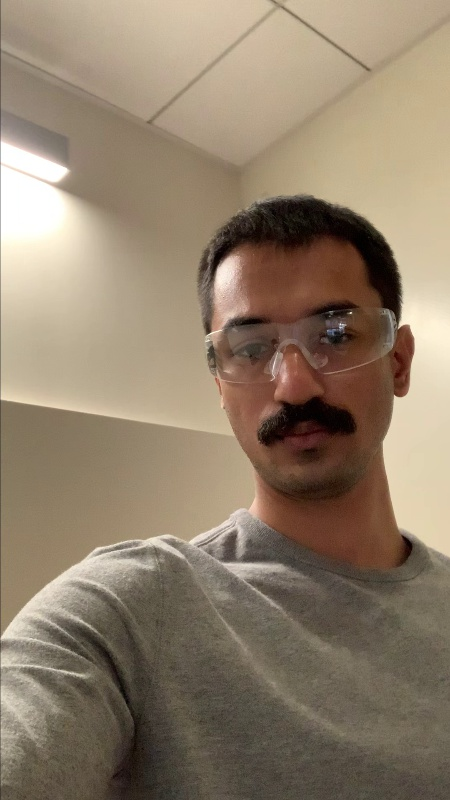glasses: (202, 303, 393, 394)
